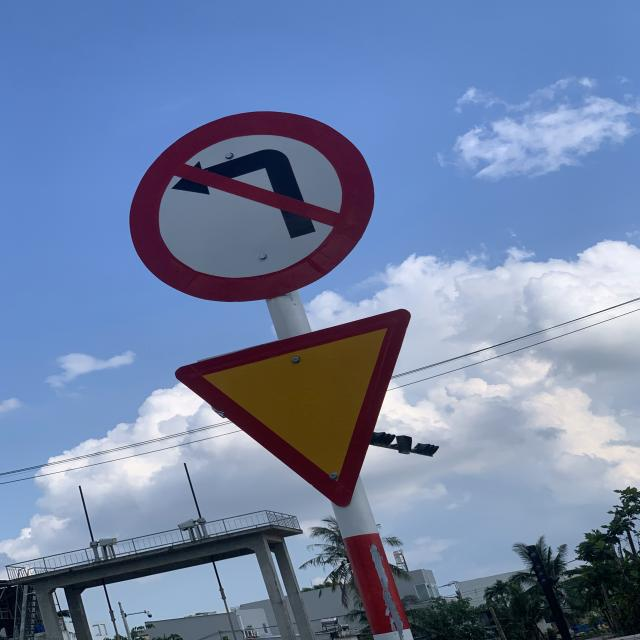Cam_Re_Trai: (126, 110, 376, 302)
Gioi_Han_Toc_Do_25: (174, 310, 416, 504)
